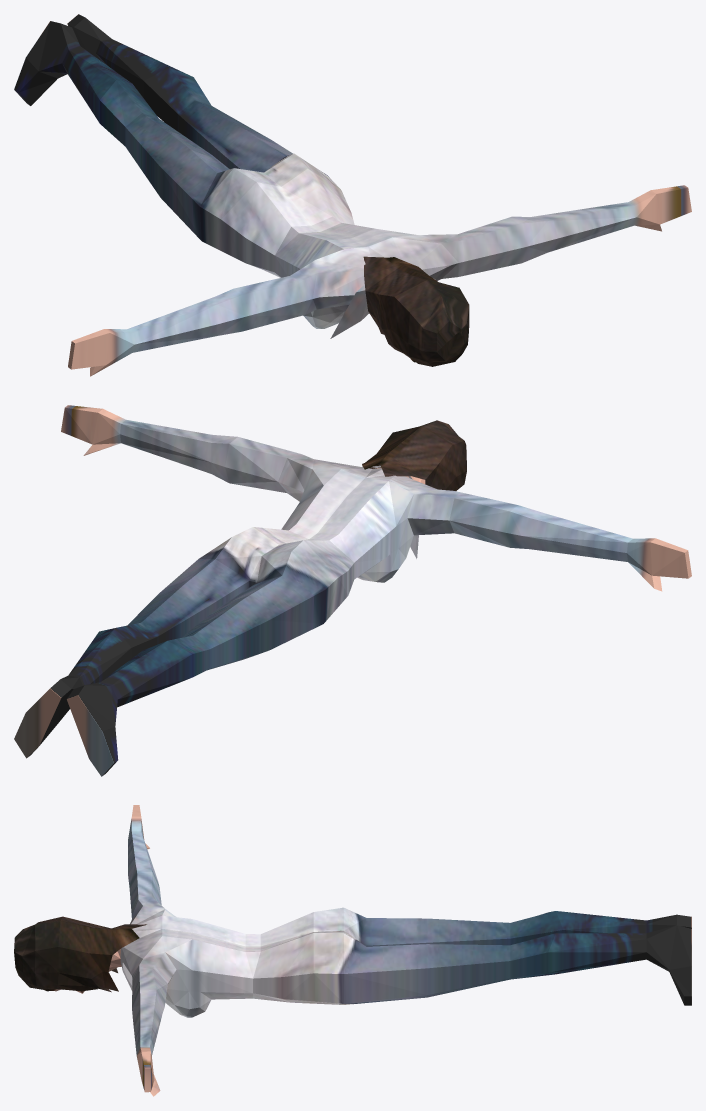
Rendered from chick_wtf.obj.
The picture shows the model from 3 angles, top to bottom: view 1: azimuth 30°, elevation 25°; view 2: azimuth 150°, elevation 25°; view 3: azimuth 270°, elevation 25°; orthographic projection. The views are drawn at different scales.
Parts seen in each view (by area): view 1: group3, group4, group2; view 2: group3, group4, group2; view 3: group3, group4, group2.
Part boxes in pixels (x1,y1,x2,y2): group3: (14, 14, 691, 376); group4: (72, 153, 687, 344); group2: (363, 256, 469, 366); group3: (14, 407, 691, 776); group4: (65, 405, 687, 589); group2: (362, 420, 466, 490); group3: (136, 819, 691, 1096); group4: (120, 805, 366, 1068); group2: (14, 916, 146, 992).
Size of the model in its own units: 615 by 89.22 by 660.
